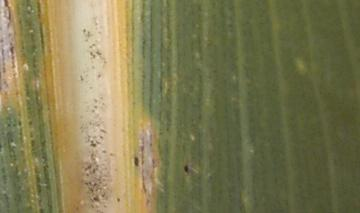tarspot: (178, 162, 197, 176), (129, 153, 144, 169), (34, 204, 48, 213)
